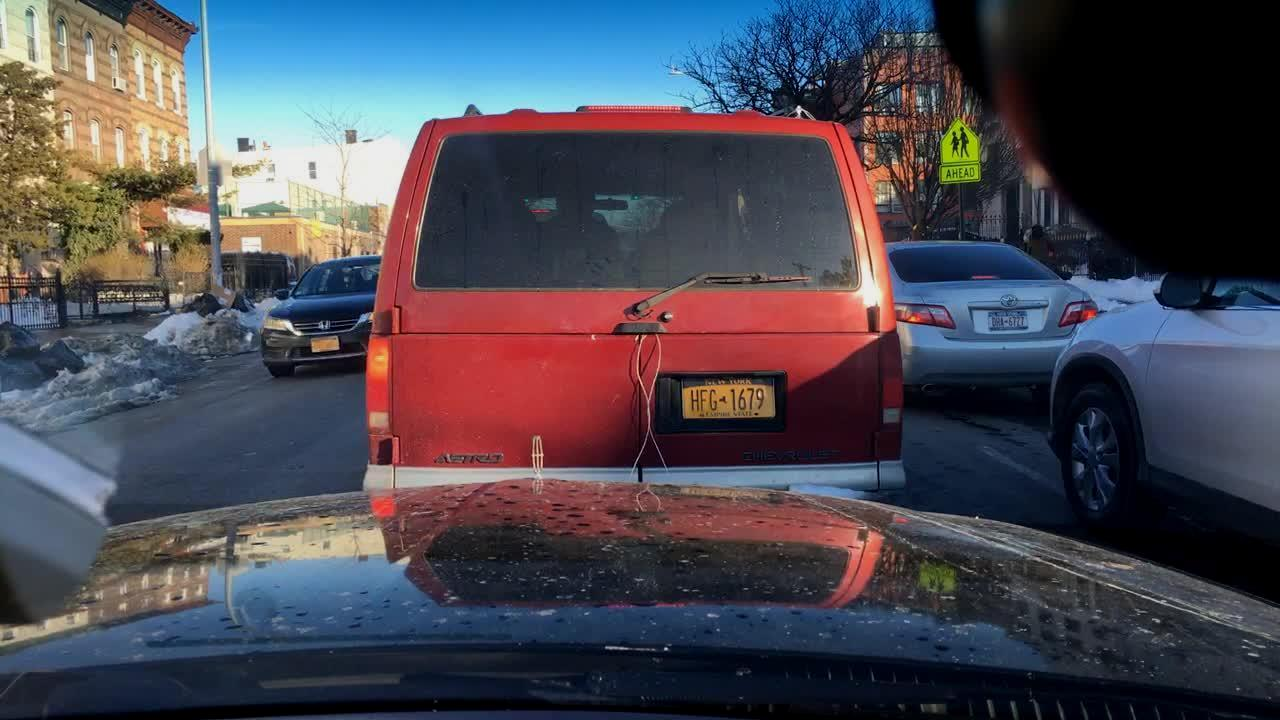Honda: (317, 317, 334, 332)
Toyota: (992, 288, 1033, 315)
lincoln: (526, 430, 552, 486)
